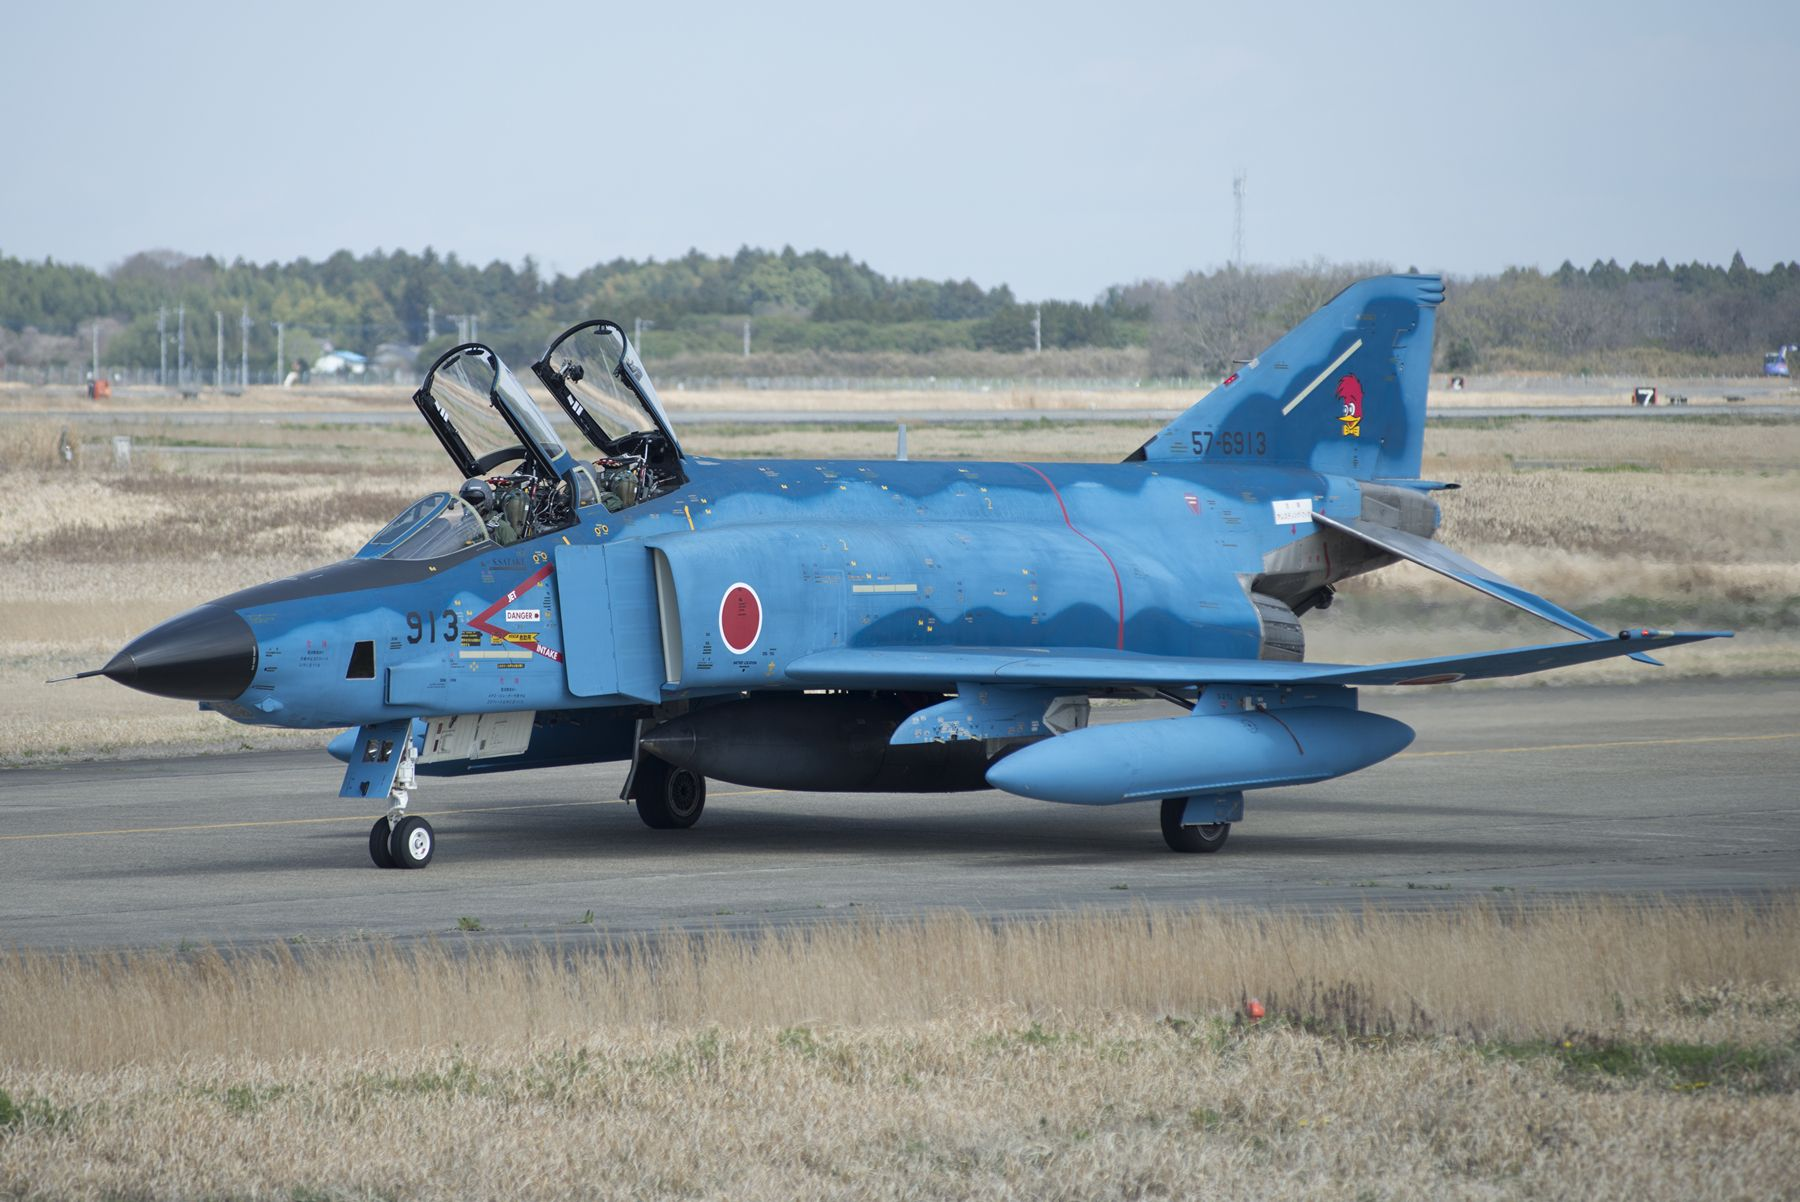F4: (40, 276, 1733, 869)
